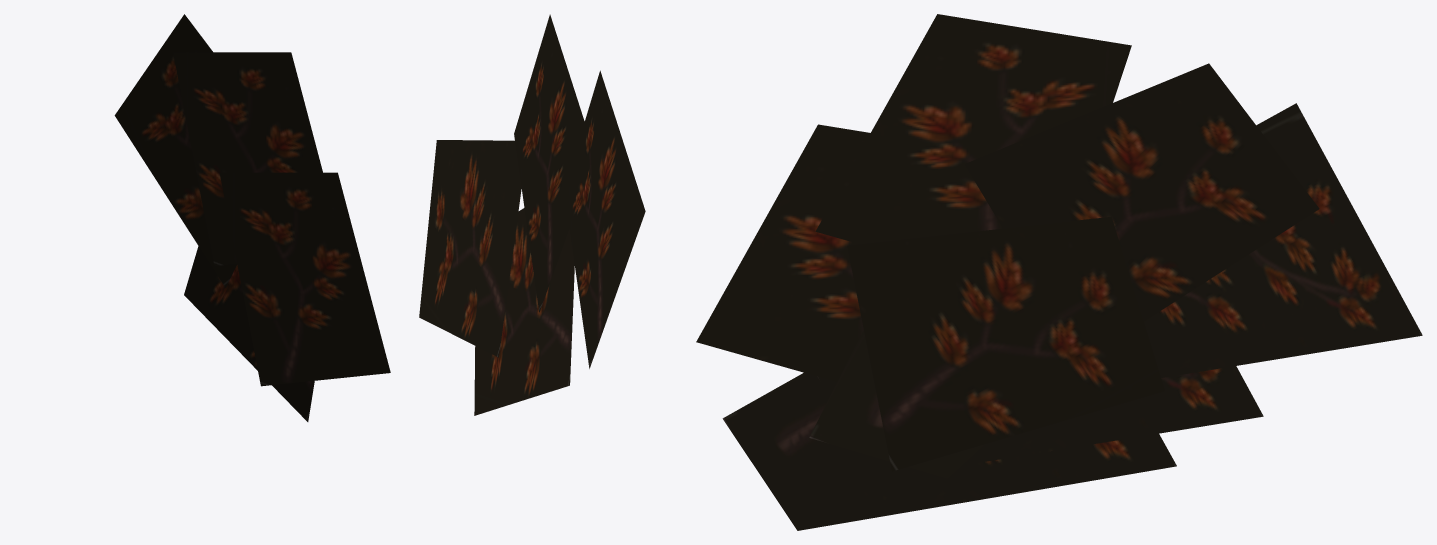
The model's file is bush_01.fbx.
The picture shows the model from 3 angles, left to right: view 1: azimuth 30°, elevation 25°; view 2: azimuth 150°, elevation 25°; view 3: azimuth 270°, elevation 25°; orthographic projection. The views are drawn at different scales.
Parts seen in each view (by area): view 1: polySurface22; view 2: polySurface22; view 3: polySurface22.
Part boxes in pixels (x1=…): polySurface22: x1=114, y1=14, x2=390, y2=421; polySurface22: x1=419, y1=14, x2=645, y2=415; polySurface22: x1=696, y1=14, x2=1422, y2=530.
Size of the model in its own units: 1.85 by 7.69 by 9.26.
Materials: 1 (1 with a texture image).
